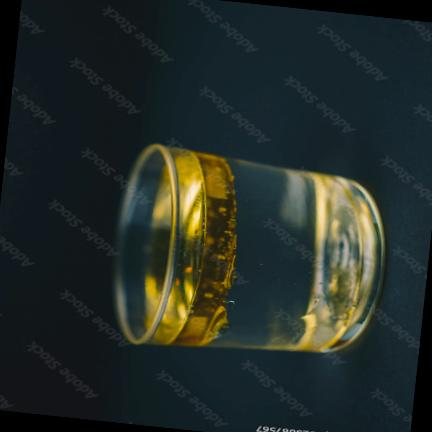container: (115, 143, 384, 352)
fluid: (167, 155, 378, 350)
fluid-surface: (144, 151, 204, 340)
